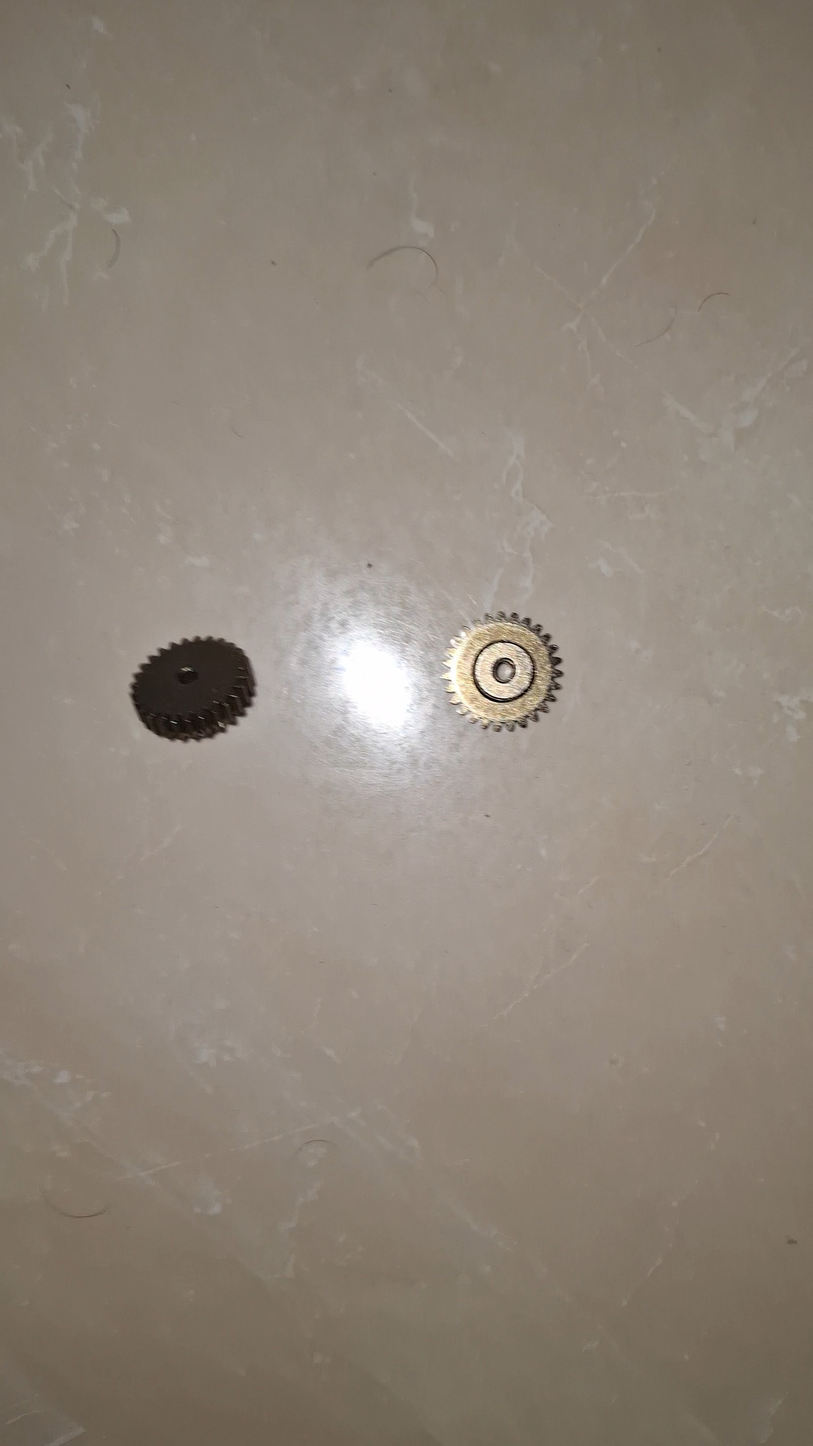spur gear: (445, 613, 562, 730), (131, 638, 255, 741)
